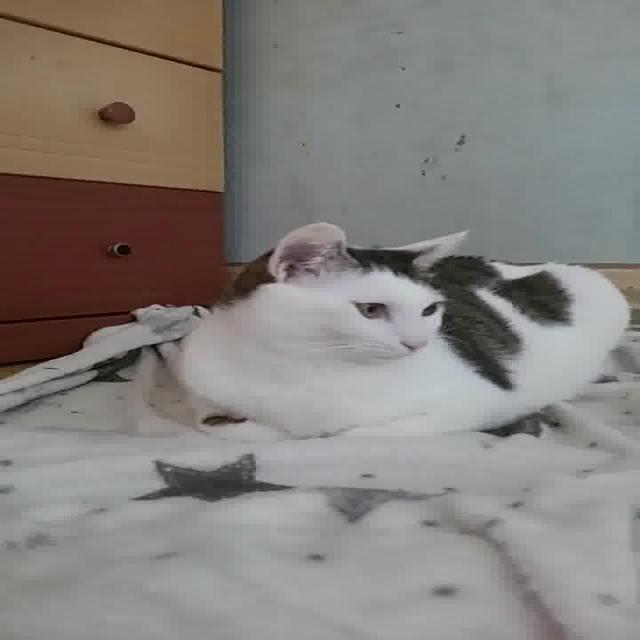cat: (178, 221, 640, 441)
